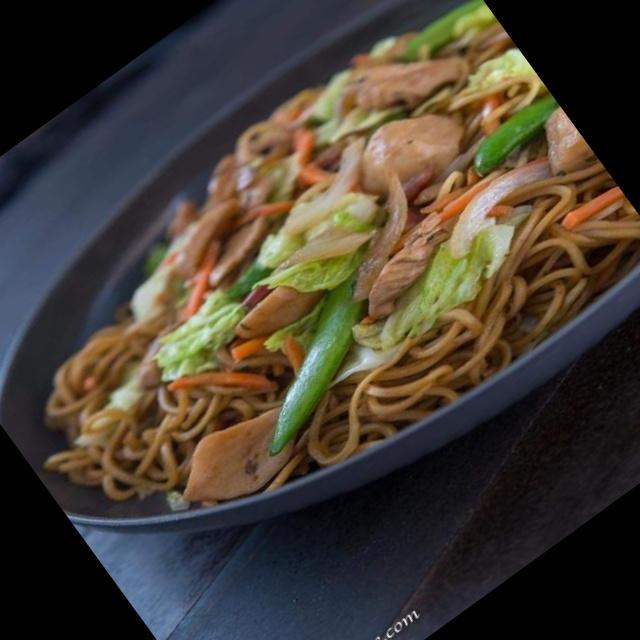pancit bihon: (50, 0, 639, 503)
